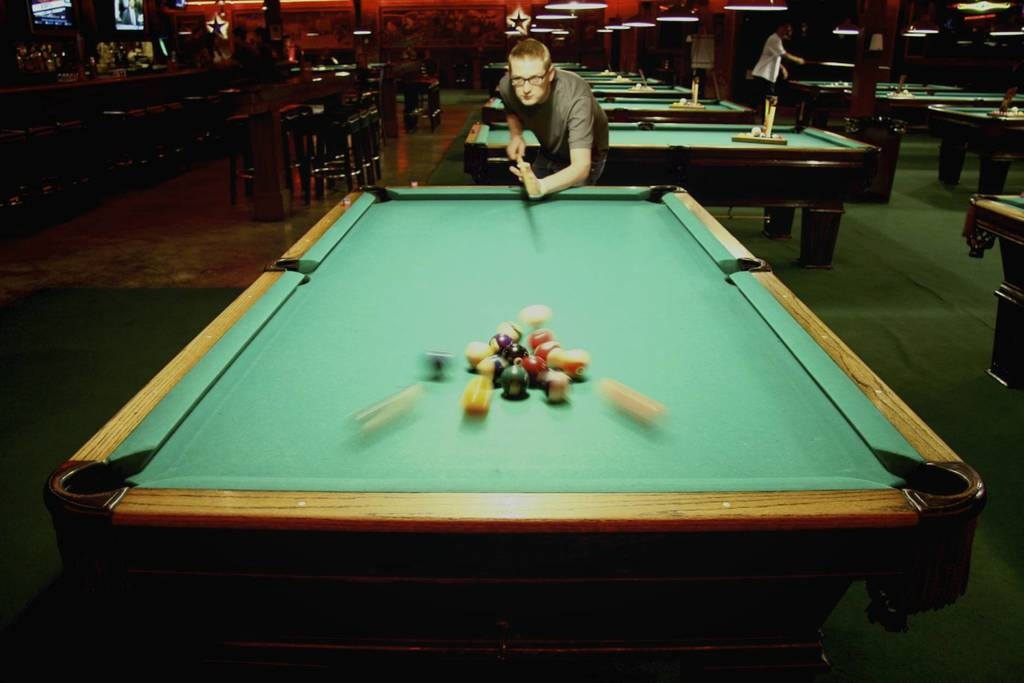Ball: (424, 302, 588, 414)
